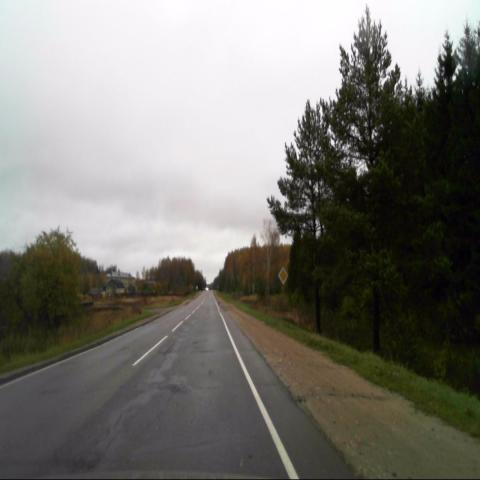2_1: (278, 266, 288, 285)
